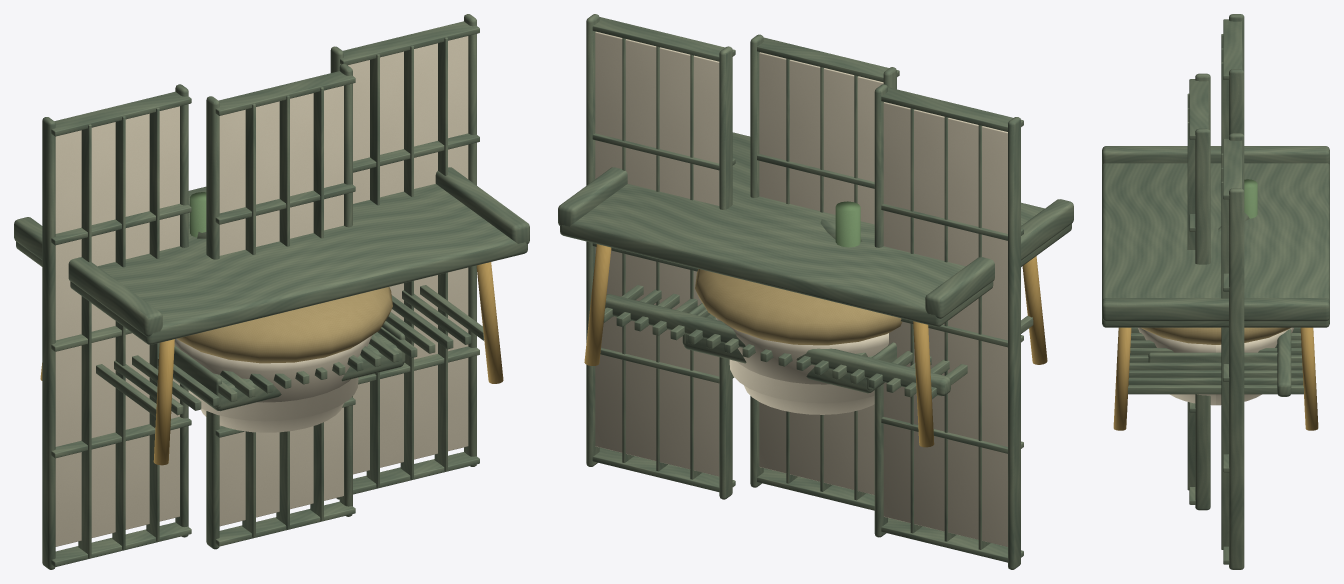
The model's file is tidy-life-tea.glb.
3 renders of one model, left to right at view 1: azimuth 30°, elevation 25°; view 2: azimuth 150°, elevation 25°; view 3: azimuth 270°, elevation 25°, orthographic. The views are drawn at different scales.
Parts seen in each view (by area): view 1: life_tea_shoji_mesh, life_tea_teatable_mesh, life_tea_zabuton_mesh, life_tea_bamboofountain_mesh, life_tea_gongfutray_mesh; view 2: life_tea_shoji_mesh, life_tea_teatable_mesh, life_tea_zabuton_mesh, life_tea_bamboofountain_mesh, life_tea_gongfutray_mesh; view 3: life_tea_teatable_mesh, life_tea_shoji_mesh, life_tea_bamboofountain_mesh, life_tea_zabuton_mesh, life_tea_gongfutray_mesh.
Boxes of the visible parts, bbox=[...] form: life_tea_shoji_mesh: bbox=[42, 14, 479, 569]; life_tea_teatable_mesh: bbox=[14, 167, 529, 465]; life_tea_zabuton_mesh: bbox=[176, 287, 392, 363]; life_tea_bamboofountain_mesh: bbox=[174, 192, 372, 432]; life_tea_gongfutray_mesh: bbox=[173, 321, 405, 411]; life_tea_shoji_mesh: bbox=[586, 14, 1023, 569]; life_tea_teatable_mesh: bbox=[558, 132, 1073, 447]; life_tea_zabuton_mesh: bbox=[695, 269, 901, 345]; life_tea_bamboofountain_mesh: bbox=[715, 201, 888, 414]; life_tea_gongfutray_mesh: bbox=[682, 303, 896, 393]; life_tea_teatable_mesh: bbox=[1102, 146, 1329, 430]; life_tea_shoji_mesh: bbox=[1187, 14, 1244, 569]; life_tea_bamboofountain_mesh: bbox=[1138, 179, 1293, 405]; life_tea_zabuton_mesh: bbox=[1141, 327, 1290, 344]; life_tea_gongfutray_mesh: bbox=[1148, 352, 1277, 362].
Size of the model in its own units: 0.59 by 0.59 by 0.32.
Materials: 8 (8 with a texture image).
